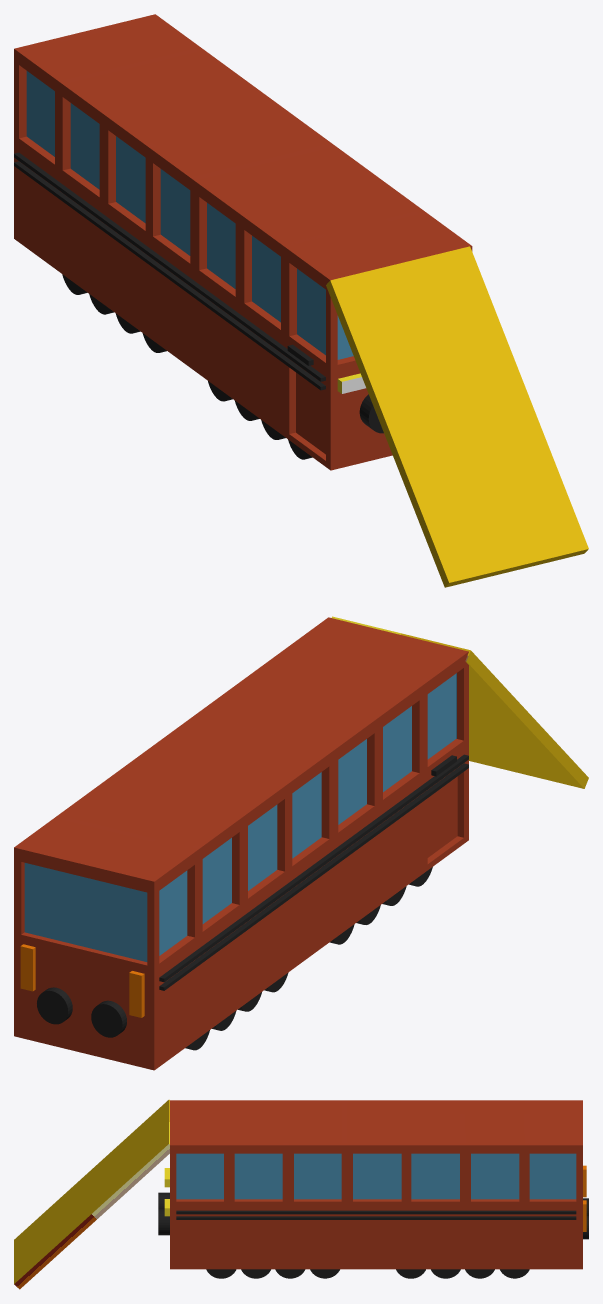
Rendered from tren 1.fbx.
3 renders of one model, top to bottom at view 1: azimuth 30°, elevation 25°; view 2: azimuth 150°, elevation 25°; view 3: azimuth 270°, elevation 25°, orthographic. The views are drawn at different scales.
Visible parts, largest first — view 1: Cube; view 2: Cube; view 3: Cube.
Part boxes in pixels (x1,y1,x2,y2): Cube: (14, 14, 588, 587); Cube: (14, 616, 588, 1070); Cube: (14, 1099, 588, 1289).
Bounding box in the file's own units: 241 × 342 × 1222.
Materials: 1 (1 with a texture image).
